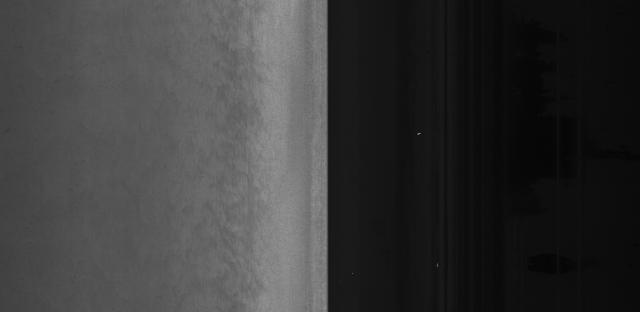silk_spot: (196, 46, 288, 226)
